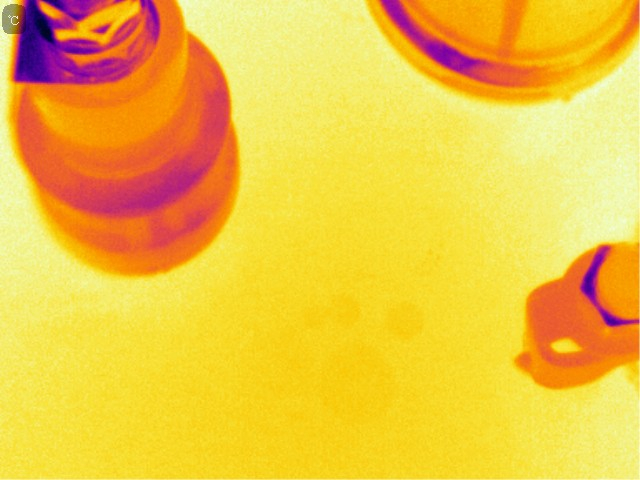Oil: (312, 340, 394, 421), (386, 294, 424, 341)
